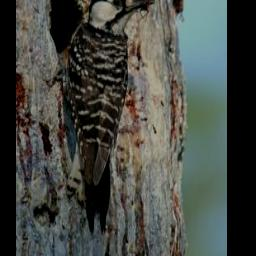Woodpecker: (44, 0, 157, 241)
